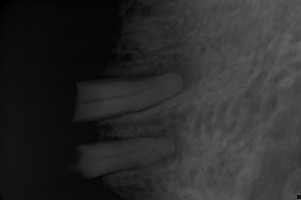Furcation Involvement: (140, 57, 201, 96), (133, 130, 186, 167)
